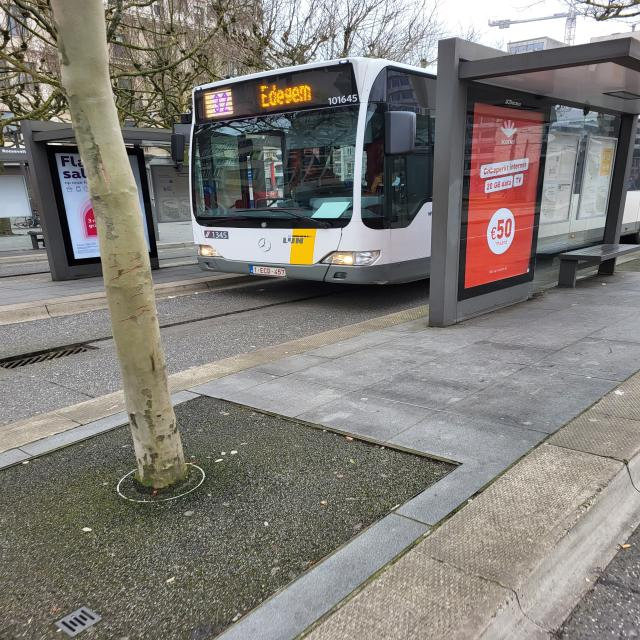bus-number: (205, 92, 235, 115)
